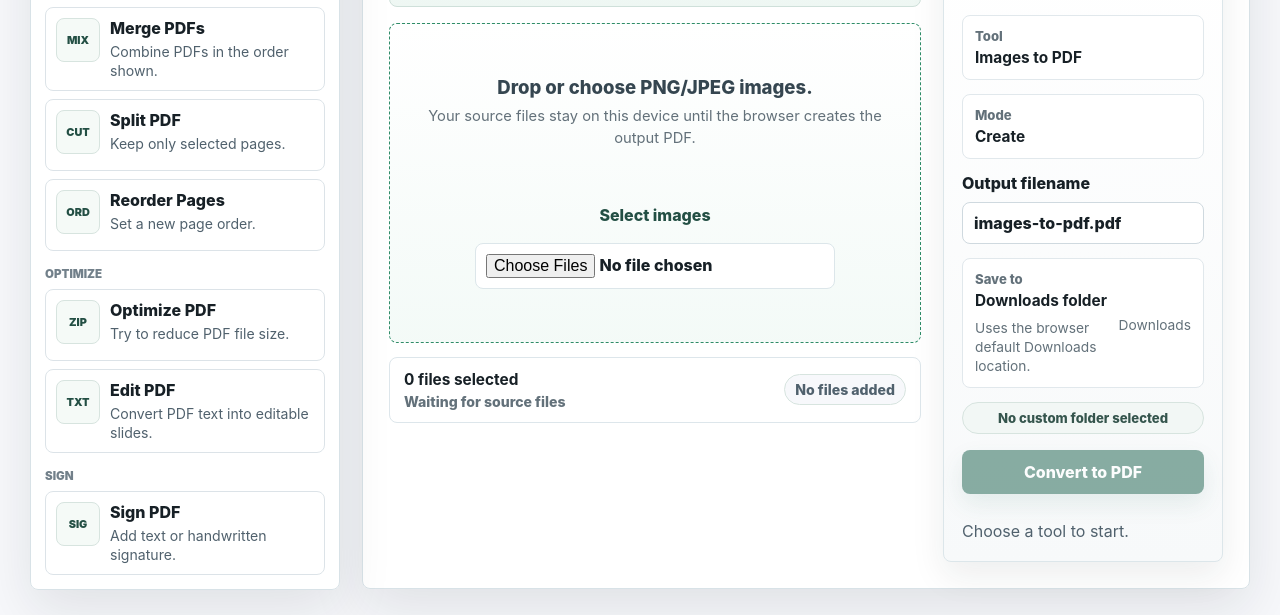
Scenario: App › shows handwritten signature controls and position choices
The width and height of the screenshot is (1280, 615).
(page scrolled)
Click the button "Sign PDF" at (185, 532), box [45, 490, 325, 574]
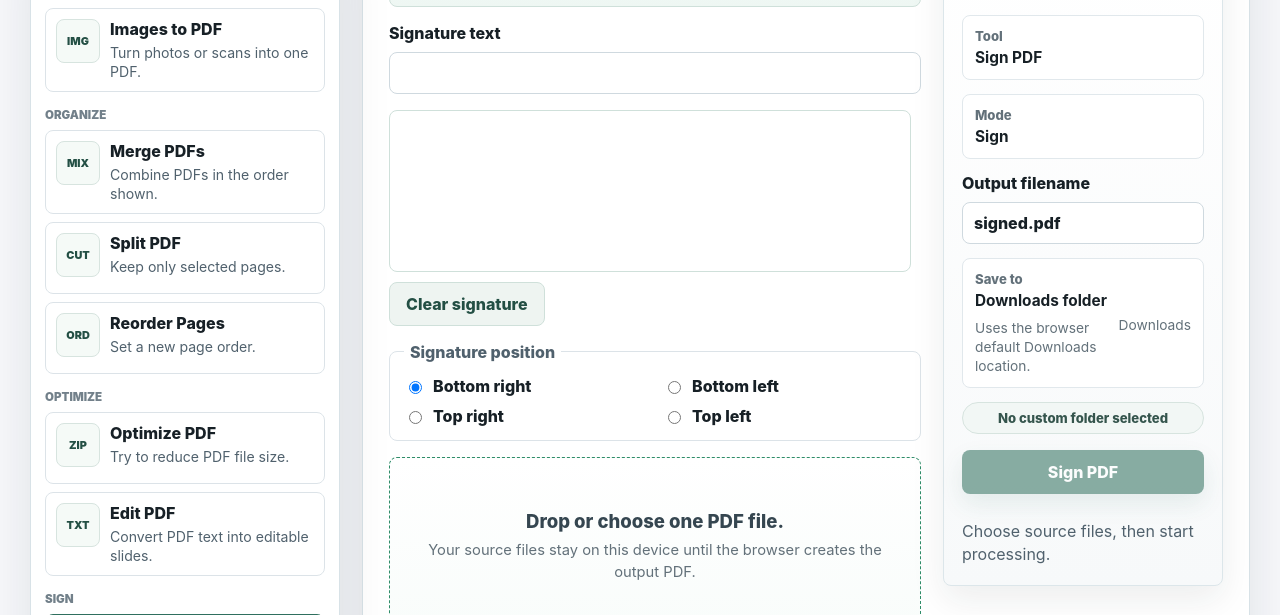
Now the drawing named "Handwritten signature pad" is shown, box [389, 110, 911, 272]
Now the button "Clear signature" is shown, box [389, 282, 544, 326]
Now the radio button labelled "Top left" is shown, box [668, 411, 681, 424]
